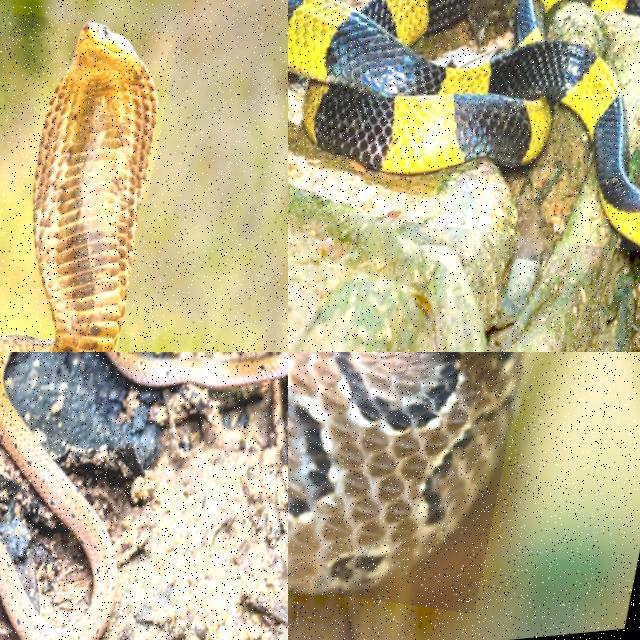Bungarus fasciatus: (288, 0, 639, 246)
Calliophis maculiceps: (0, 352, 116, 639)
Daboia siamensis: (288, 352, 521, 592)
Ophiophagus hannah: (0, 23, 156, 351)
snake: (288, 0, 639, 246), (288, 352, 521, 592), (0, 23, 156, 351), (0, 352, 116, 639)
